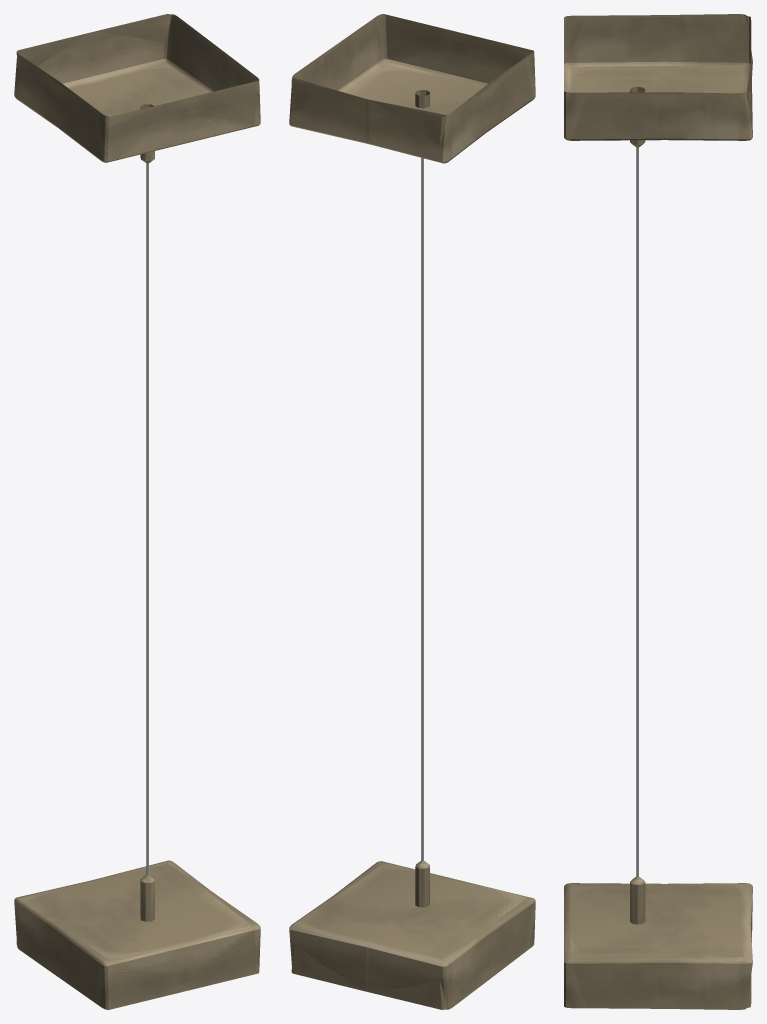
The model's file is Puzzle_NoteString.fbx.
The picture shows the model from 3 angles, left to right: view 1: azimuth 30°, elevation 25°; view 2: azimuth 150°, elevation 25°; view 3: azimuth 270°, elevation 25°; orthographic projection. The views are drawn at different scales.
Visible parts, largest first — view 1: NotePlayer; view 2: NotePlayer; view 3: NotePlayer.
Part boxes in pixels (box(x1,y1,x2,y2)): NotePlayer: box(14, 14, 260, 1009); NotePlayer: box(289, 14, 535, 1009); NotePlayer: box(564, 14, 752, 1009).
Size of the model in its own units: 113 by 610 by 114.
